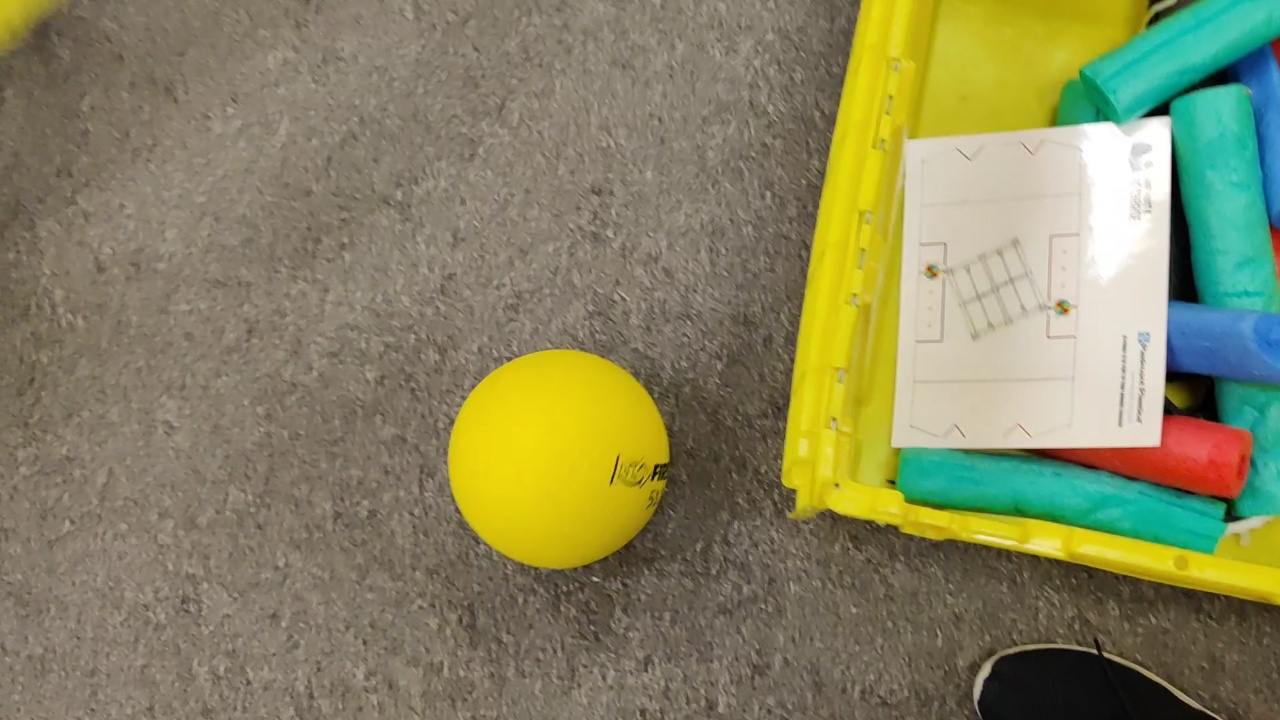Ball: (449, 346, 677, 569)
